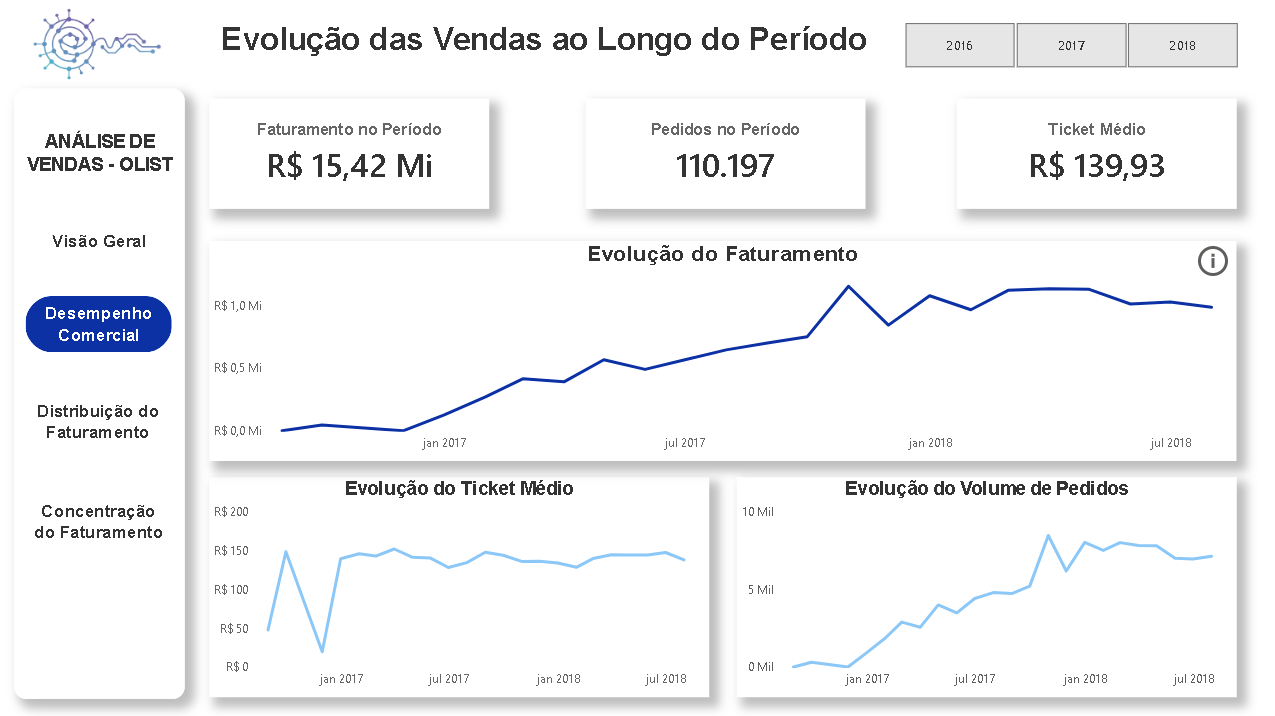

What the dashboard file says about the page in this screenshot:
{"tool":"powerbi","page":{"name":"Desempenho Comercial","canvas":[1280,720],"ordinal":1},"visuals":[{"type":"shape","box":[16.2,92.5,170,610],"z":0},{"type":"cardVisual","fields":{"Data":["Medidas.total_pedidos"]},"box":[587,102.7,280,110.1],"z":1000},{"type":"cardVisual","fields":{"Data":["ticket_medio.ticket_medio"]},"box":[958.7,102.7,280,110.1],"z":2000},{"type":"slicer","fields":{"Values":["dim_date.date_key.Variation.Hierarquia de datas.Ano"]},"box":[880.8,20,382.5,58.3],"z":3000},{"type":"lineChart","title":"Evolução do Ticket Médio","fields":{"Y":["ticket_medio.ticket_medio"],"Category":["dim_date.date_key.Variation.Hierarquia de datas.Ano","dim_date.date_key.Variation.Hierarquia de datas.Mês"]},"box":[211.2,481.2,500,220],"z":4000},{"type":"lineChart","title":"Evolução do Faturamento","fields":{"Y":["ticket_medio.total_vendas"],"Category":["dim_date.date_key.Variation.Hierarquia de datas.Ano","dim_date.date_key.Variation.Hierarquia de datas.Mês"]},"box":[211.2,245,1027.5,220],"z":5000},{"type":"textbox","box":[211.2,20,670,58.8],"z":6000},{"type":"actionButton","box":[27.5,230,147.5,35],"z":7000},{"type":"actionButton","box":[26.2,400,147.5,56.2],"z":8000},{"type":"actionButton","box":[27.5,500,146.2,57.5],"z":9000},{"type":"cardVisual","fields":{"Data":["Medidas.Total_vendas"]},"box":[211.6,102.7,280,110.1],"z":10000},{"type":"lineChart","title":"Evolução do Volume de Pedidos","fields":{"Category":["dim_date.date_key.Variation.Hierarquia de datas.Ano","dim_date.date_key.Variation.Hierarquia de datas.Mês"],"Y":["ticket_medio.total_pedidos"]},"box":[738.6,481.4,500,220],"z":11000},{"type":"actionButton","box":[21.9,110,158.8,95],"z":12000},{"type":"image","box":[27.5,8.8,143.8,78.8],"z":13000},{"type":"actionButton","box":[1195,245,43.8,40],"z":14000},{"type":"actionButton","box":[27.5,300,146.2,56.2],"z":15000}]}

Visuals, with their boxes in screenshot pixels (x1, y1, x2, y2), scaled from the page's 1280x720 canvas onto the 1275x716 screenshot:
shape: [x1=16, y1=92, x2=185, y2=699]
cardVisual - Medidas.total_pedidos: [x1=585, y1=102, x2=864, y2=212]
cardVisual - ticket_medio.ticket_medio: [x1=955, y1=102, x2=1234, y2=212]
slicer - dim_date.date_key.Variation.Hierarquia de datas.Ano: [x1=877, y1=20, x2=1258, y2=78]
"Evolução do Ticket Médio" lineChart: [x1=210, y1=479, x2=708, y2=697]
"Evolução do Faturamento" lineChart: [x1=210, y1=244, x2=1234, y2=462]
textbox: [x1=210, y1=20, x2=878, y2=78]
actionButton: [x1=27, y1=229, x2=174, y2=264]
actionButton: [x1=26, y1=398, x2=173, y2=454]
actionButton: [x1=27, y1=497, x2=173, y2=554]
cardVisual - Medidas.Total_vendas: [x1=211, y1=102, x2=490, y2=212]
"Evolução do Volume de Pedidos" lineChart: [x1=736, y1=479, x2=1234, y2=698]
actionButton: [x1=22, y1=109, x2=180, y2=204]
image: [x1=27, y1=9, x2=171, y2=87]
actionButton: [x1=1190, y1=244, x2=1234, y2=283]
actionButton: [x1=27, y1=298, x2=173, y2=354]
